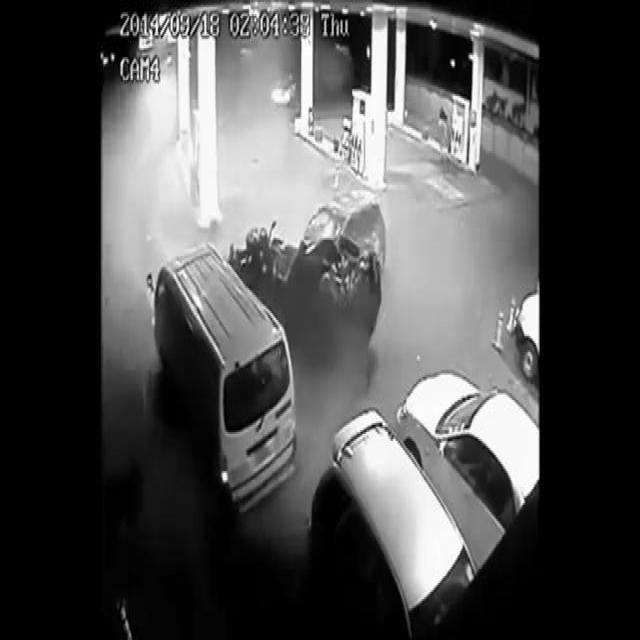person: (218, 172, 434, 356)
